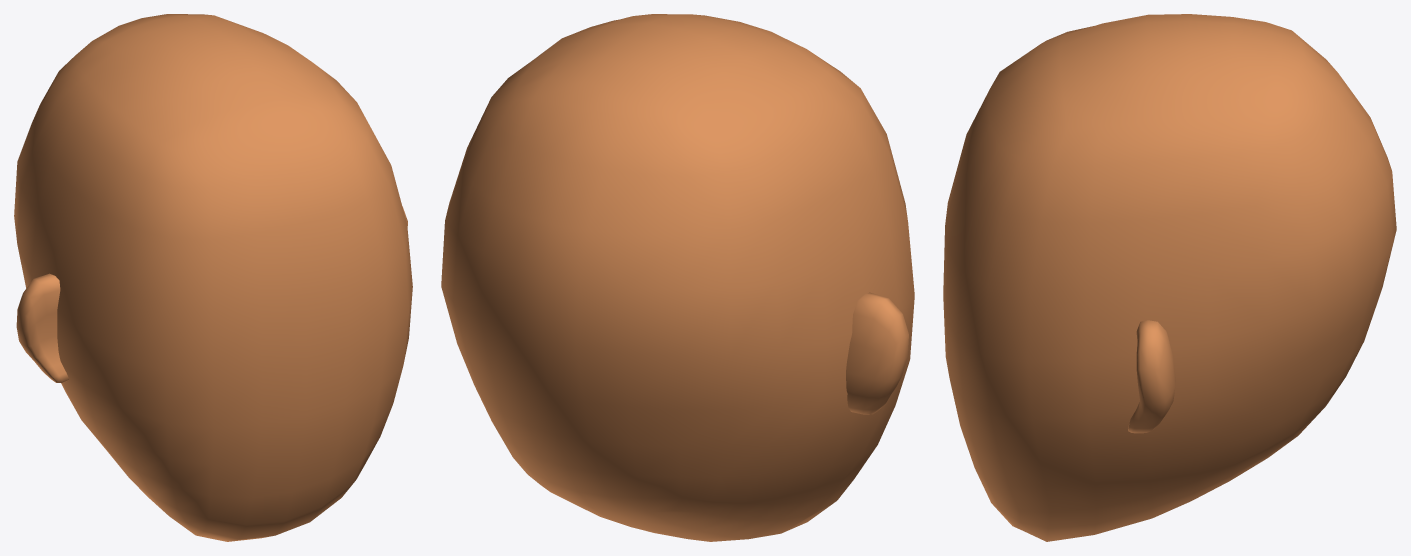
Rendered from heads_basic.glb.
The picture shows the model from 3 angles, left to right: view 1: azimuth 30°, elevation 25°; view 2: azimuth 150°, elevation 25°; view 3: azimuth 270°, elevation 25°; orthographic projection. The views are drawn at different scales.
Parts seen in each view (by area): view 1: heads_basic; view 2: heads_basic; view 3: heads_basic.
Boxes of the visible parts, box(x1,y1,x2,y2) form: heads_basic: box(14, 14, 412, 541); heads_basic: box(441, 14, 914, 541); heads_basic: box(943, 14, 1396, 541).
Size of the model in its own units: 0.3999 by 0.4483 by 0.3738.
